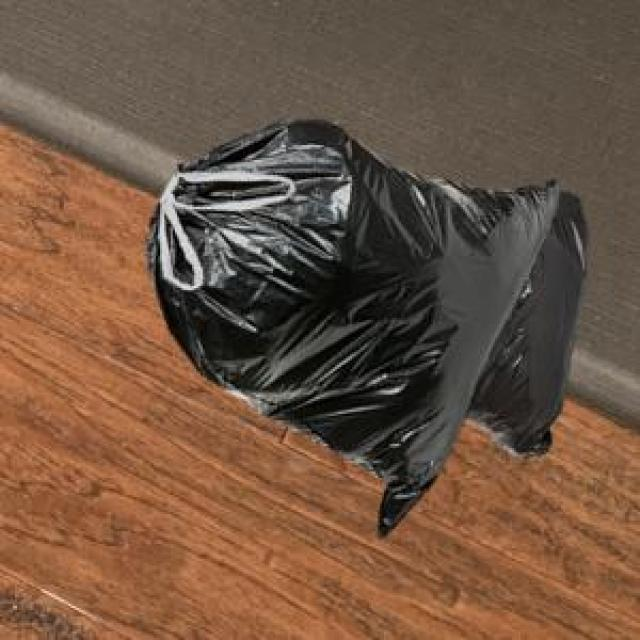miscellaneous trash: (145, 115, 555, 533), (461, 186, 585, 452)
